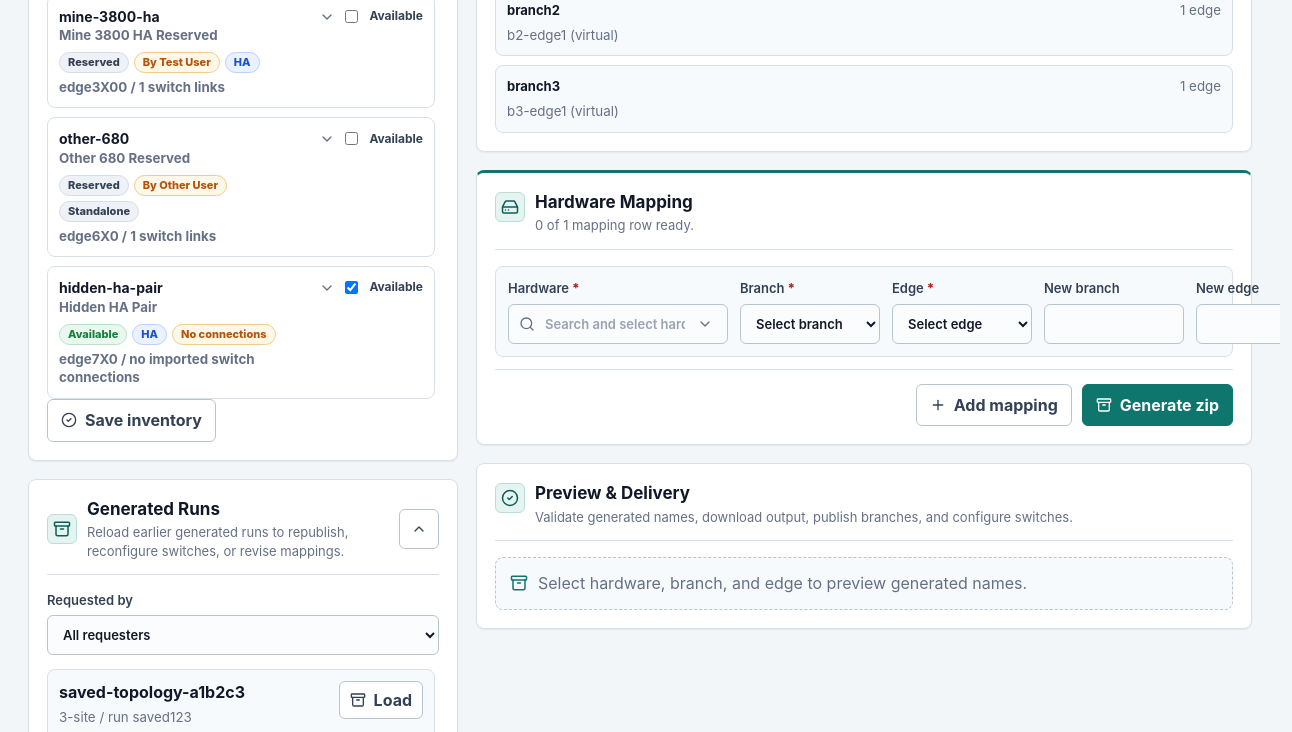
App › shows unconnected hardware in inventory and warns in its details
(page scrolled)
Click the button "hidden-ha-pair" at (197, 333), box [59,278,335,387]
(page scrolled)
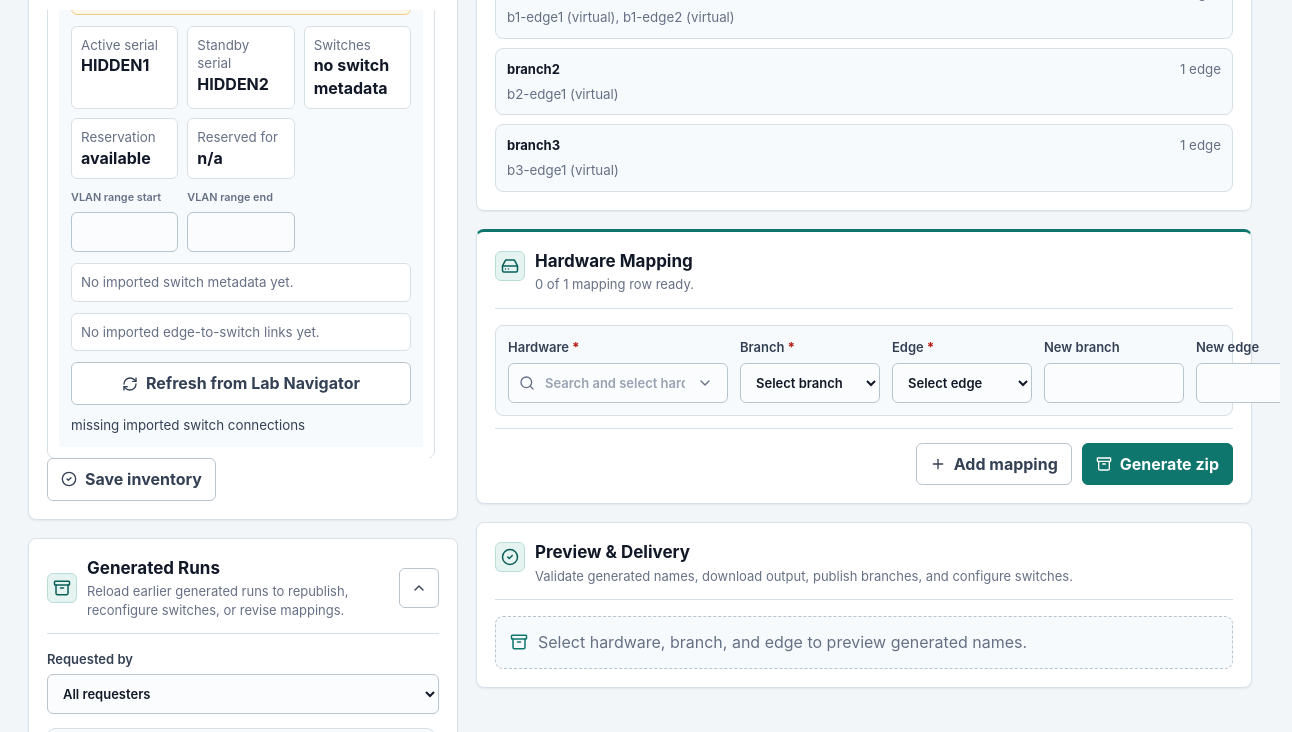
Check: the text "No imported switch metadata yet." is shown, box [81,274,294,290]
Check: the text "No imported edge-to-switch links yet." is shown, box [81,324,320,340]
